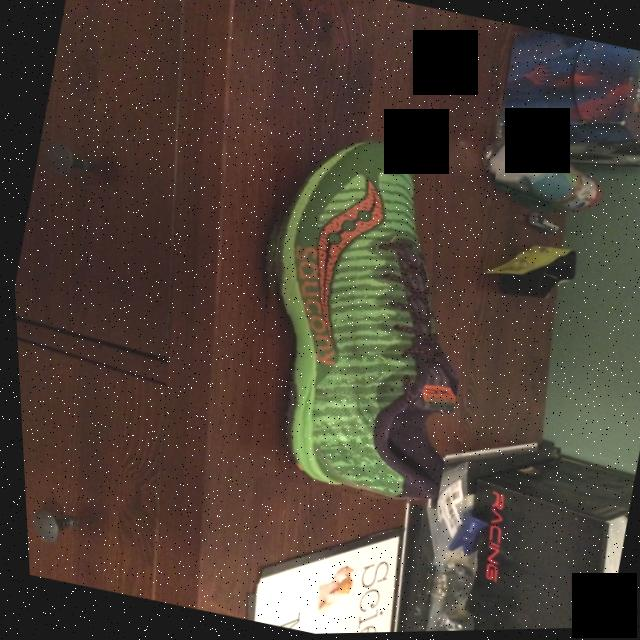shoe: (206, 115, 510, 518)
